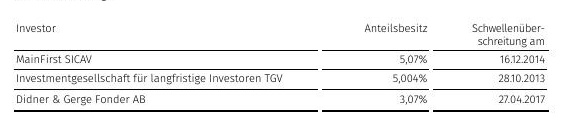table: (0, 0, 563, 123)
